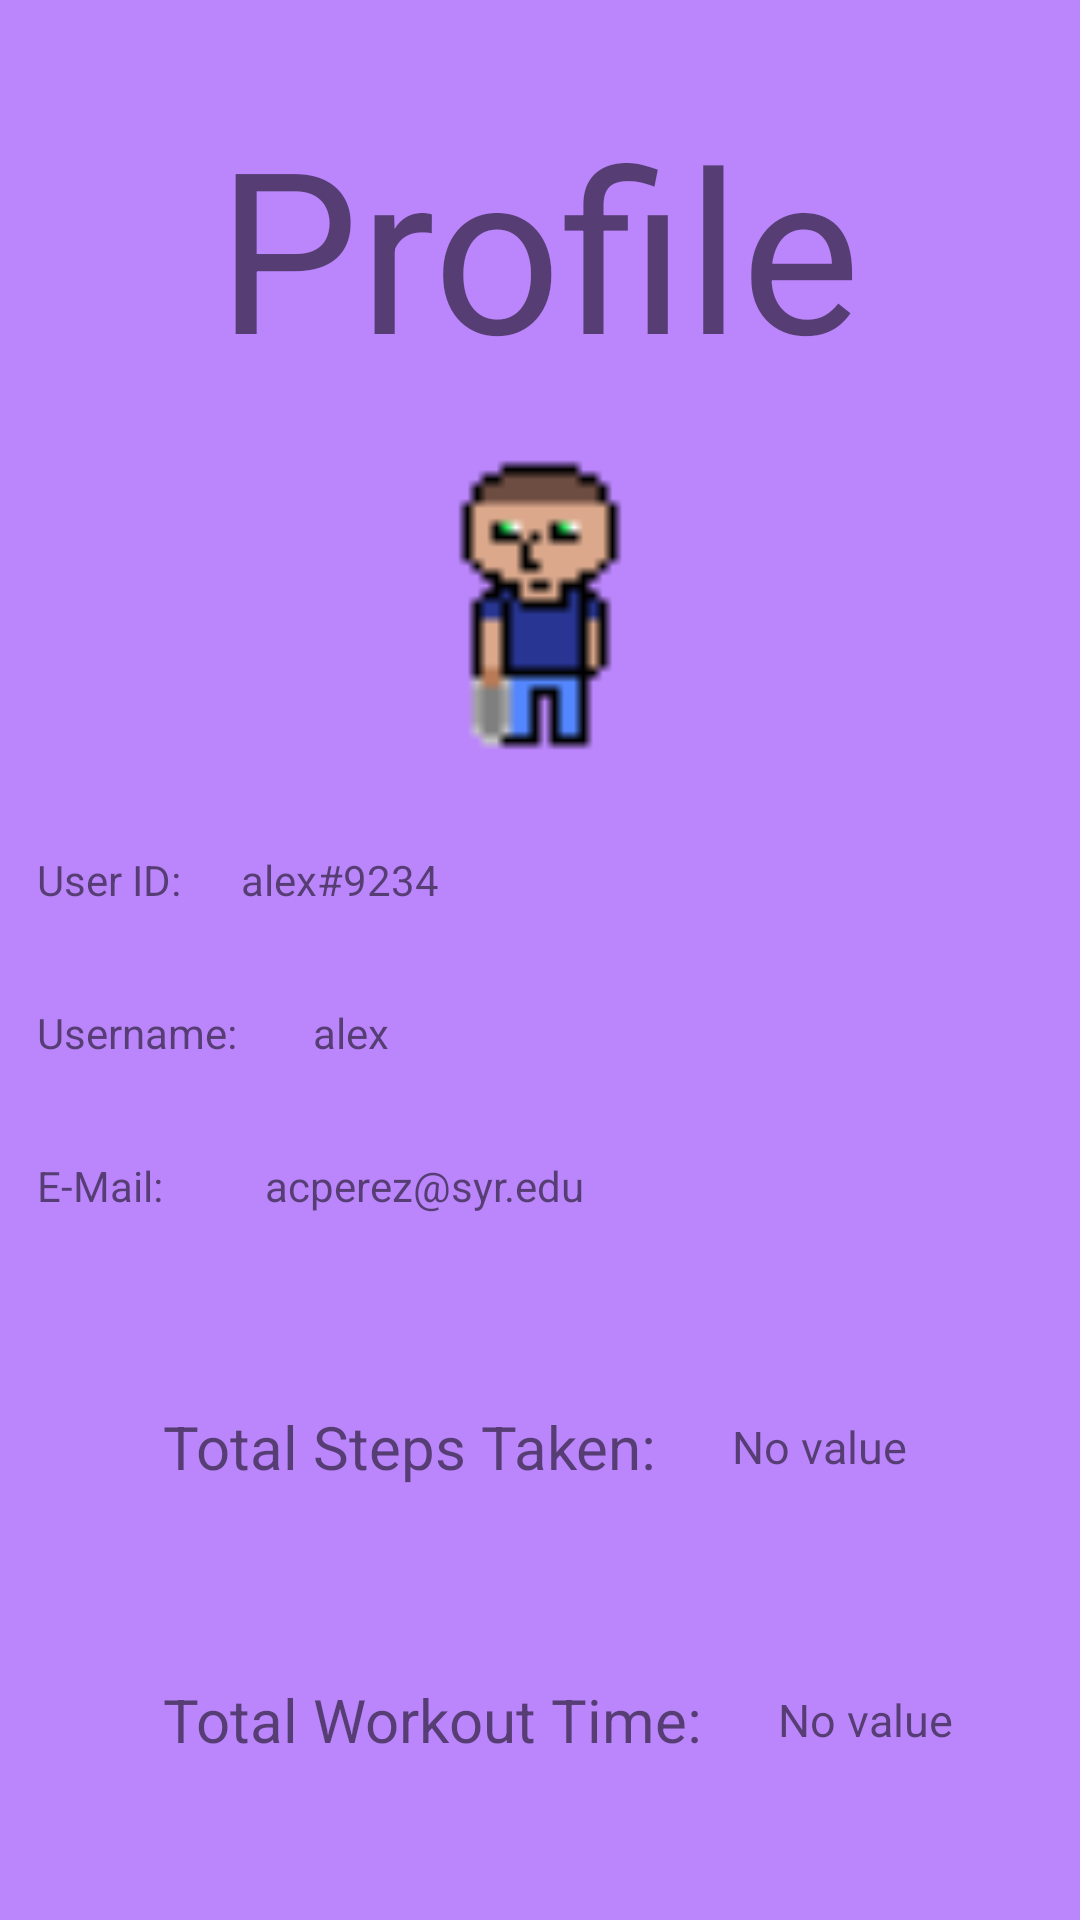

Screen size 1080px x 1920px. Icon name, then its box in pixels as (x1, y1, x2, y2):
character: (459, 461, 621, 749)
